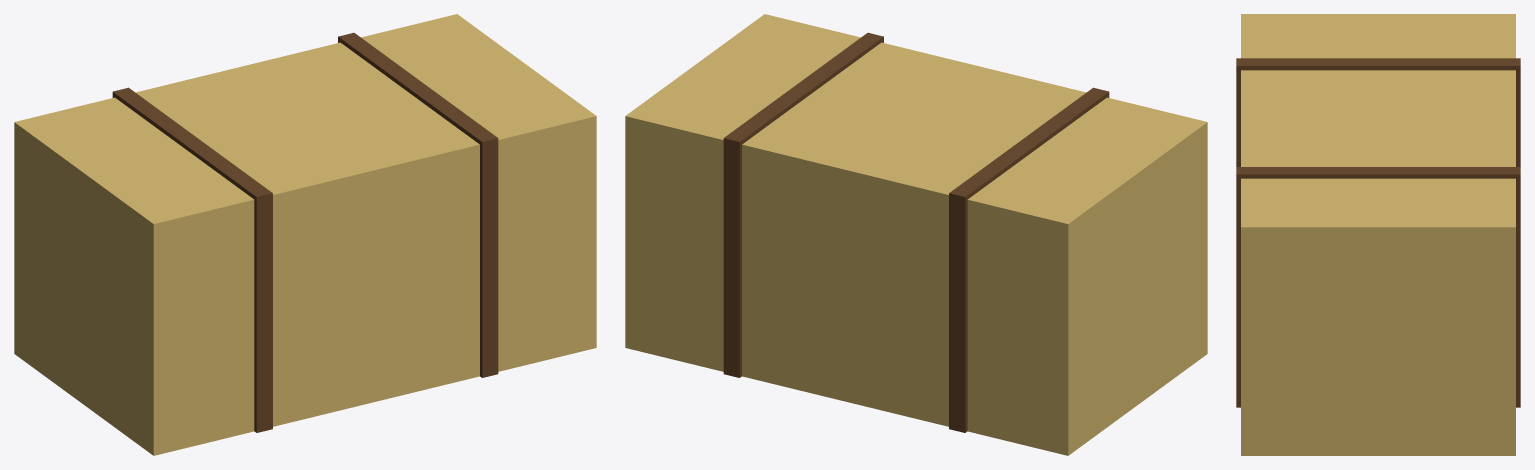
File: camp_haybale.glb
3 views of the same model, side by side, from view 1: azimuth 30°, elevation 25°; view 2: azimuth 150°, elevation 25°; view 3: azimuth 270°, elevation 25° (orthographic).
Visible parts, largest first — view 1: camp_haybale; view 2: camp_haybale; view 3: camp_haybale.
Part boxes in pixels (x1=…): camp_haybale: x1=14, y1=14, x2=596, y2=455; camp_haybale: x1=625, y1=14, x2=1207, y2=455; camp_haybale: x1=1236, y1=14, x2=1520, y2=455.
Bounding box in the file's own units: 1.1 × 0.56 × 0.62.
Materials: 1 (1 with a texture image).
